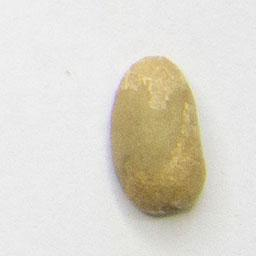longberry: (106, 51, 209, 216)
